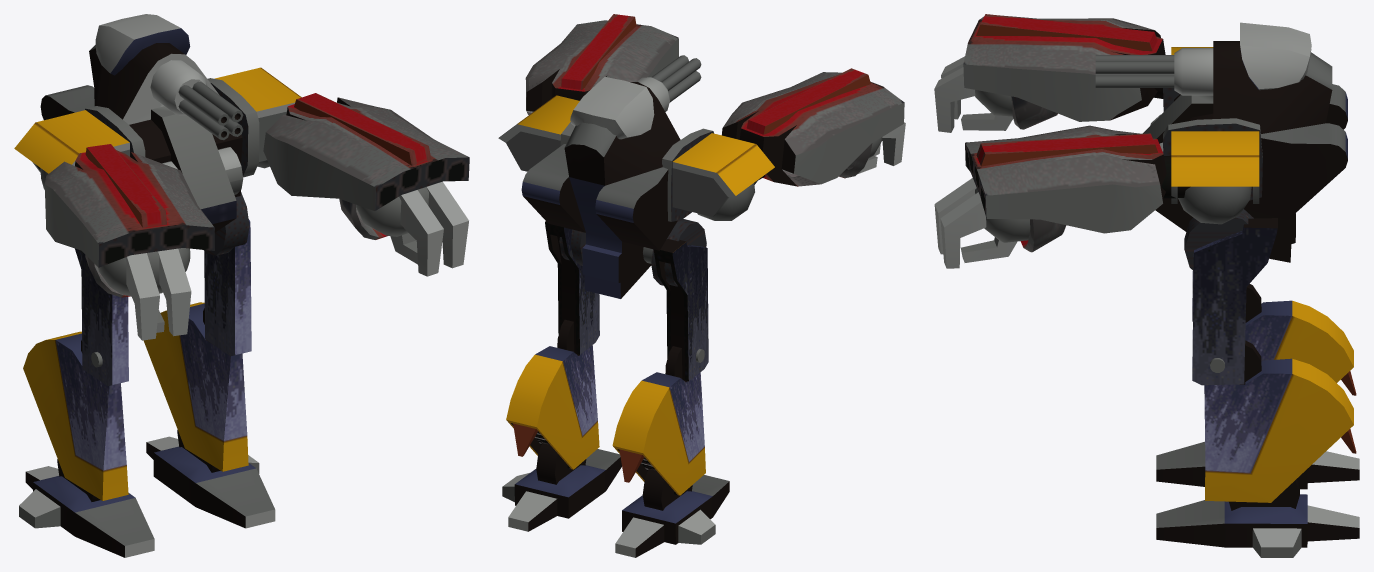
The model's file is npc_sec2bot_000043.obj.
The picture shows the model from 3 angles, left to right: view 1: azimuth 30°, elevation 25°; view 2: azimuth 150°, elevation 25°; view 3: azimuth 270°, elevation 25°; orthographic projection. The views are drawn at different scales.
Parts seen in each view (by area): view 1: npc_sec2bot_npc_sec2bot_meshdata; view 2: npc_sec2bot_npc_sec2bot_meshdata; view 3: npc_sec2bot_npc_sec2bot_meshdata.
Boxes of the visible parts, x1=… form: npc_sec2bot_npc_sec2bot_meshdata: x1=14, y1=14, x2=469, y2=557; npc_sec2bot_npc_sec2bot_meshdata: x1=498, y1=14, x2=905, y2=557; npc_sec2bot_npc_sec2bot_meshdata: x1=934, y1=14, x2=1359, y2=557.
Size of the model in its own units: 2 by 2.46 by 2.01.
